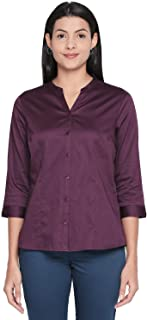shirt: (1, 78, 146, 253)
